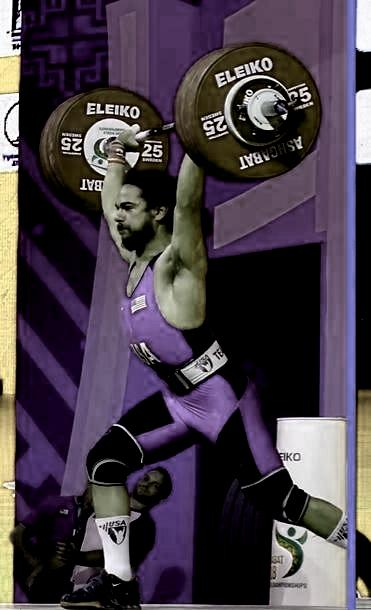Barbell: (242, 77, 303, 139)
